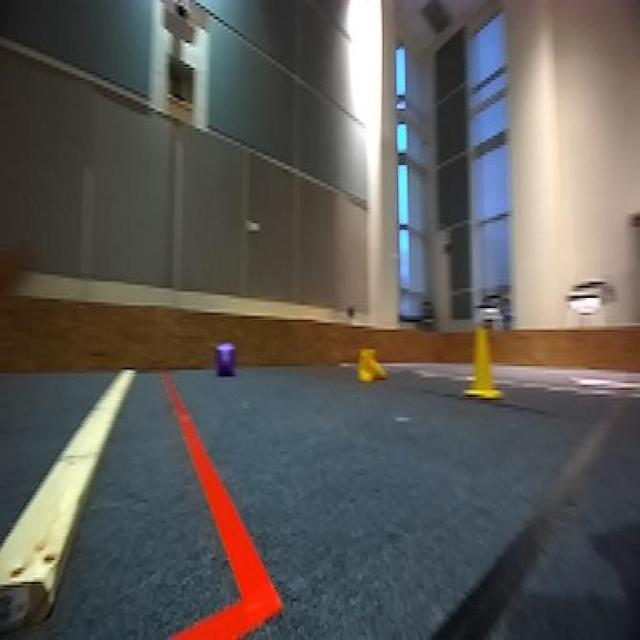frc_cone: (465, 318, 505, 402), (356, 346, 390, 383)
frc_cube: (216, 344, 234, 374)
